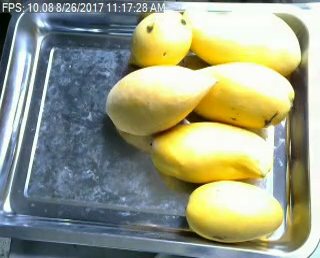Mango: (180, 8, 299, 75), (104, 65, 215, 133), (151, 124, 272, 184), (189, 62, 293, 126), (187, 180, 282, 240), (130, 10, 191, 65)
